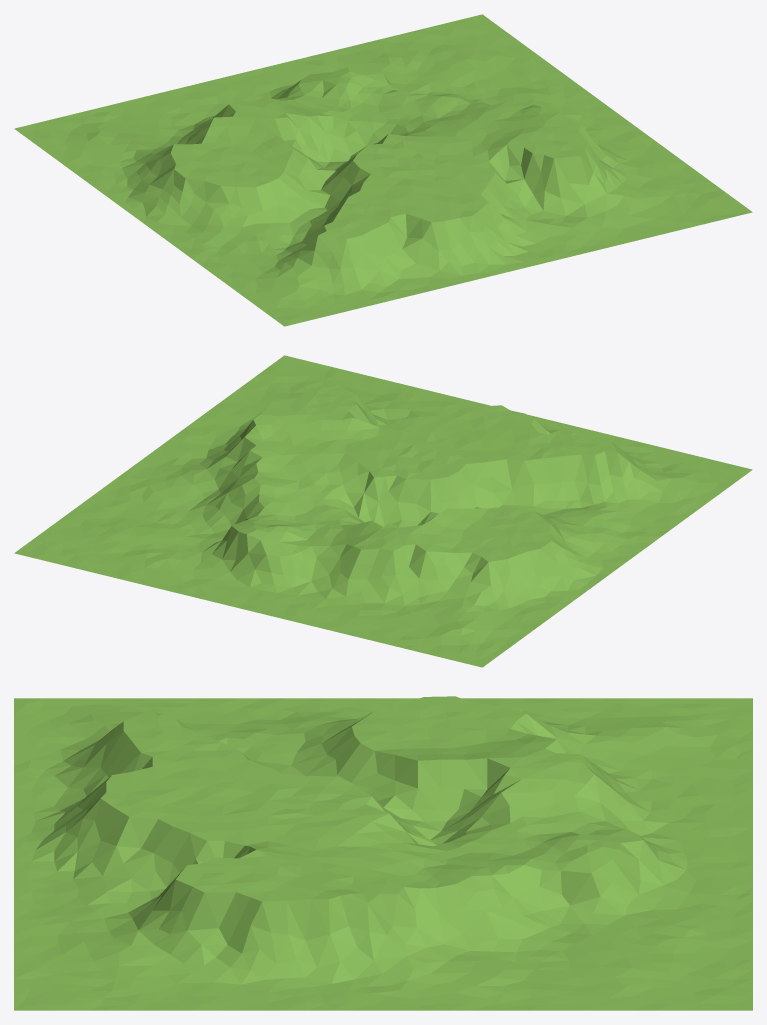
File: MT_Terrain_L_c_02_LOD.fbx
3 views of the same model, one above another, from view 1: azimuth 30°, elevation 25°; view 2: azimuth 150°, elevation 25°; view 3: azimuth 270°, elevation 25° (orthographic). The views are drawn at different scales.
Visible parts, largest first — view 1: MT_Terrain_L_c_02_LOD0; view 2: MT_Terrain_L_c_02_LOD0; view 3: MT_Terrain_L_c_02_LOD0.
Boxes of the visible parts, left/top/right/bottom form: MT_Terrain_L_c_02_LOD0: left=14, top=14, right=752, bottom=326; MT_Terrain_L_c_02_LOD0: left=14, top=355, right=752, bottom=667; MT_Terrain_L_c_02_LOD0: left=14, top=696, right=752, bottom=1010.
Size of what is drawn, in the model's own units: 10000 by 846 by 10000.
